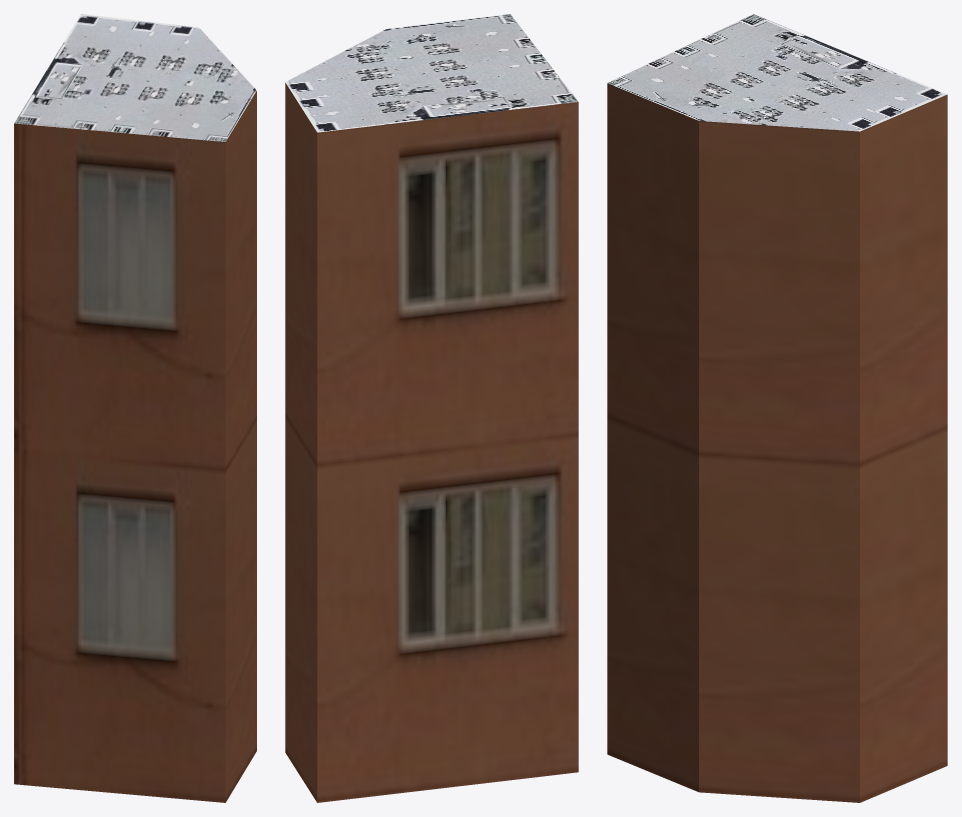
File: ResTex__1749.fbx
3 views of the same model, side by side, from view 1: azimuth 30°, elevation 25°; view 2: azimuth 150°, elevation 25°; view 3: azimuth 270°, elevation 25° (orthographic).
Parts seen in each view (by area): view 1: CityEngineMaterial_20_m, CityEngineMaterial_m; view 2: CityEngineMaterial_20_m, CityEngineMaterial_m; view 3: CityEngineMaterial_20_m, CityEngineMaterial_m.
Boxes of the visible parts, x1,y1,x2,y2 form: CityEngineMaterial_20_m: (14, 91, 256, 802); CityEngineMaterial_m: (14, 14, 256, 141); CityEngineMaterial_20_m: (285, 83, 578, 802); CityEngineMaterial_m: (285, 14, 578, 132); CityEngineMaterial_20_m: (607, 83, 947, 802); CityEngineMaterial_m: (607, 14, 947, 131).
Bounding box in the file's own units: 2.25 × 6 × 2.76.
Materials: 2 (2 with a texture image).
